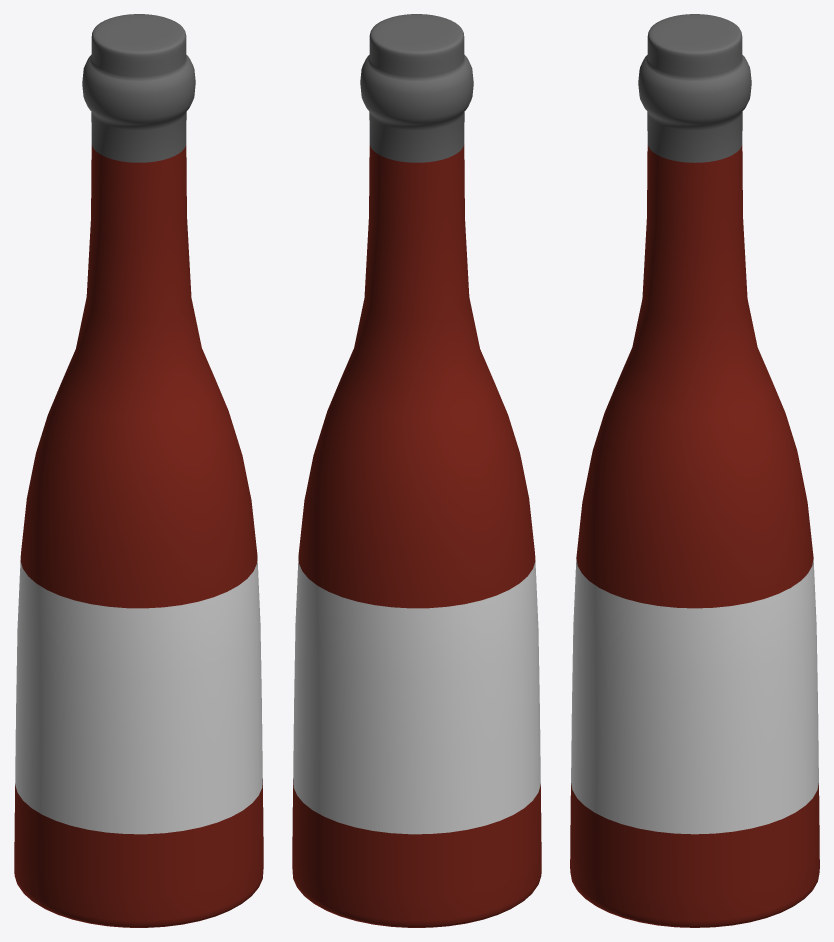
Rendered from WineBottle01.fbx.
The picture shows the model from 3 angles, left to right: view 1: azimuth 30°, elevation 25°; view 2: azimuth 150°, elevation 25°; view 3: azimuth 270°, elevation 25°; orthographic projection.
Visible parts, largest first — view 1: WineBottle01; view 2: WineBottle01; view 3: WineBottle01.
Part boxes in pixels (<box>): WineBottle01: <box>14,14,263,927</box>; WineBottle01: <box>292,14,541,927</box>; WineBottle01: <box>570,14,819,927</box>.
Size of the model in its own units: 216 by 811 by 216.
